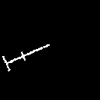double_crochet: (2, 45, 48, 70)
